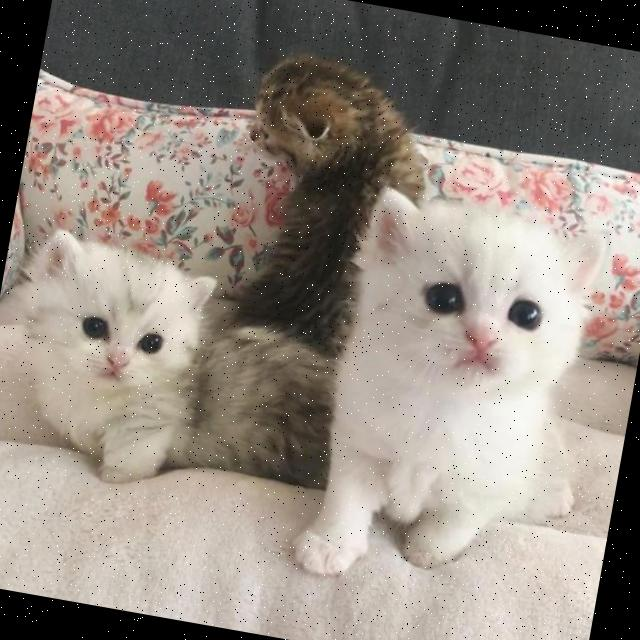cat: (299, 171, 623, 617), (0, 209, 352, 528), (220, 46, 448, 343)
